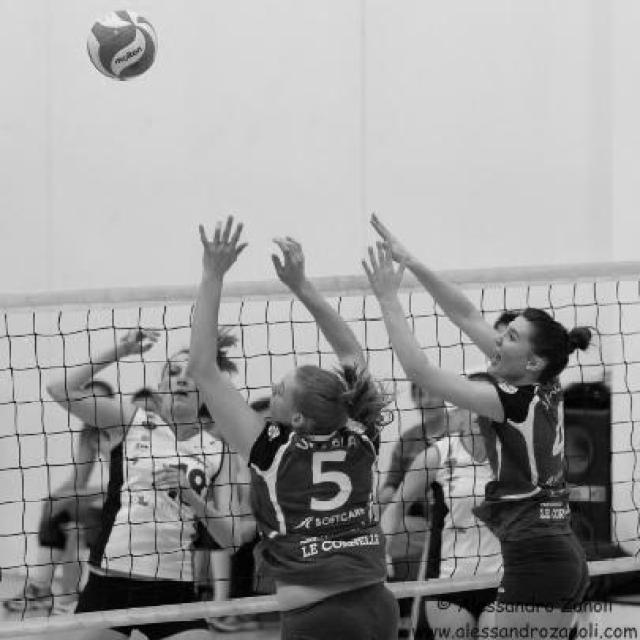volleyball: (87, 11, 158, 80)
